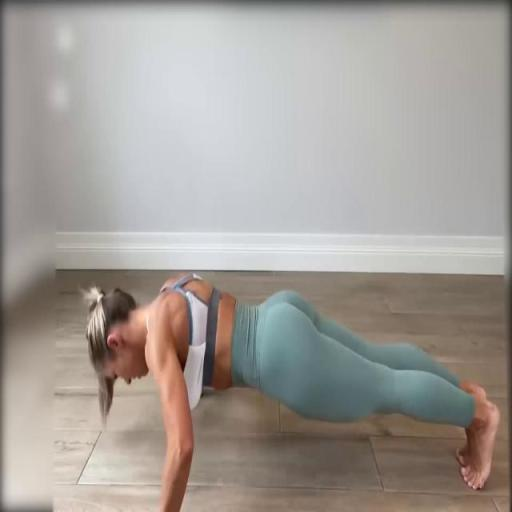Normal_Dips: (16, 267, 512, 512)
